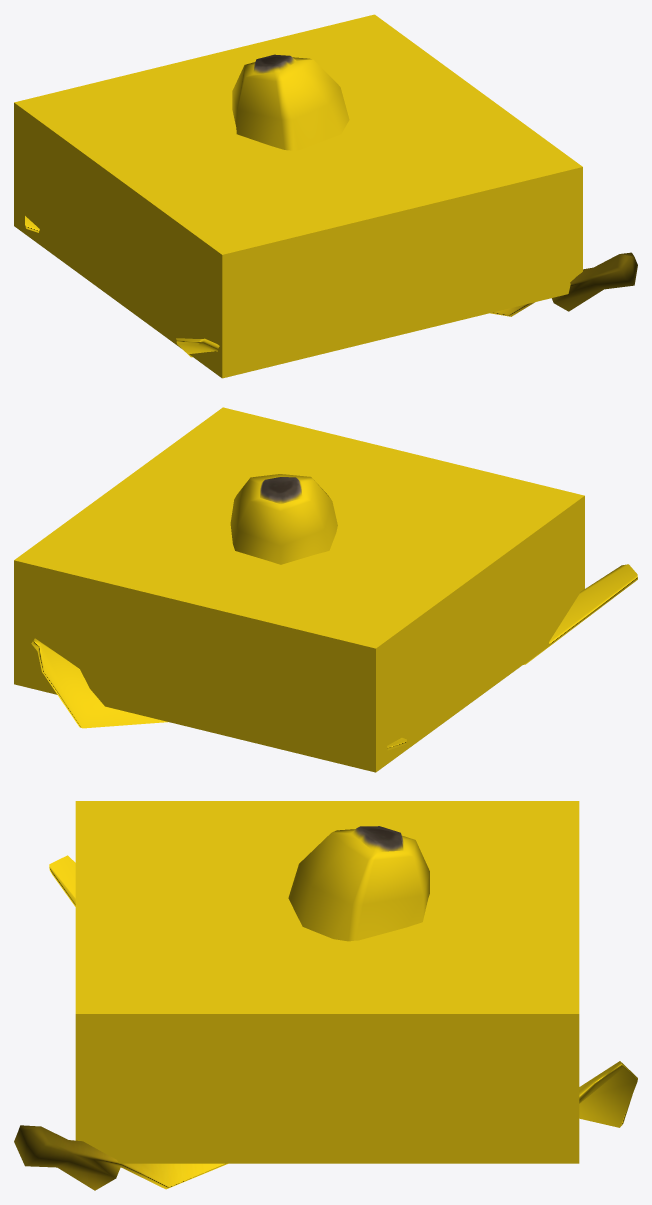
Rendered from BNN.fbx.
The picture shows the model from 3 angles, top to bottom: view 1: azimuth 30°, elevation 25°; view 2: azimuth 150°, elevation 25°; view 3: azimuth 270°, elevation 25°; orthographic projection. The views are drawn at different scales.
Parts seen in each view (by area): view 1: BNN_cln1, banana; view 2: BNN_cln1, banana; view 3: BNN_cln1, banana.
Part boxes in pixels (x1,y1,x2,y2): BNN_cln1: (14,14,582,378); banana: (25,54,637,357); BNN_cln1: (14,407,584,772); banana: (31,474,637,750); BNN_cln1: (75,801,579,1163); banana: (14,826,637,1190).
Bounding box in the file's own units: 25.77 × 11.52 × 25.54.
